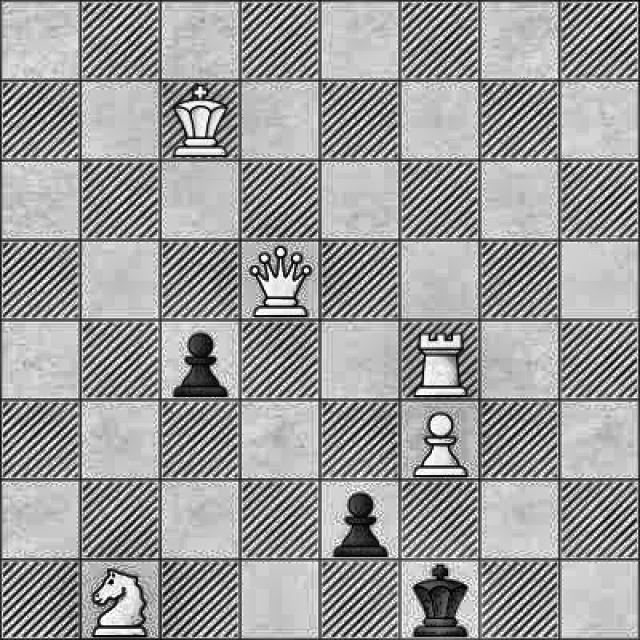black king: (406, 559, 468, 639)
black pawn: (329, 486, 394, 560), (168, 325, 233, 397)
white king: (166, 82, 231, 158)
white pawn: (407, 408, 478, 478)
white queen: (242, 242, 315, 322)
white rook: (404, 321, 474, 398)
whiteknight: (83, 566, 155, 640)
